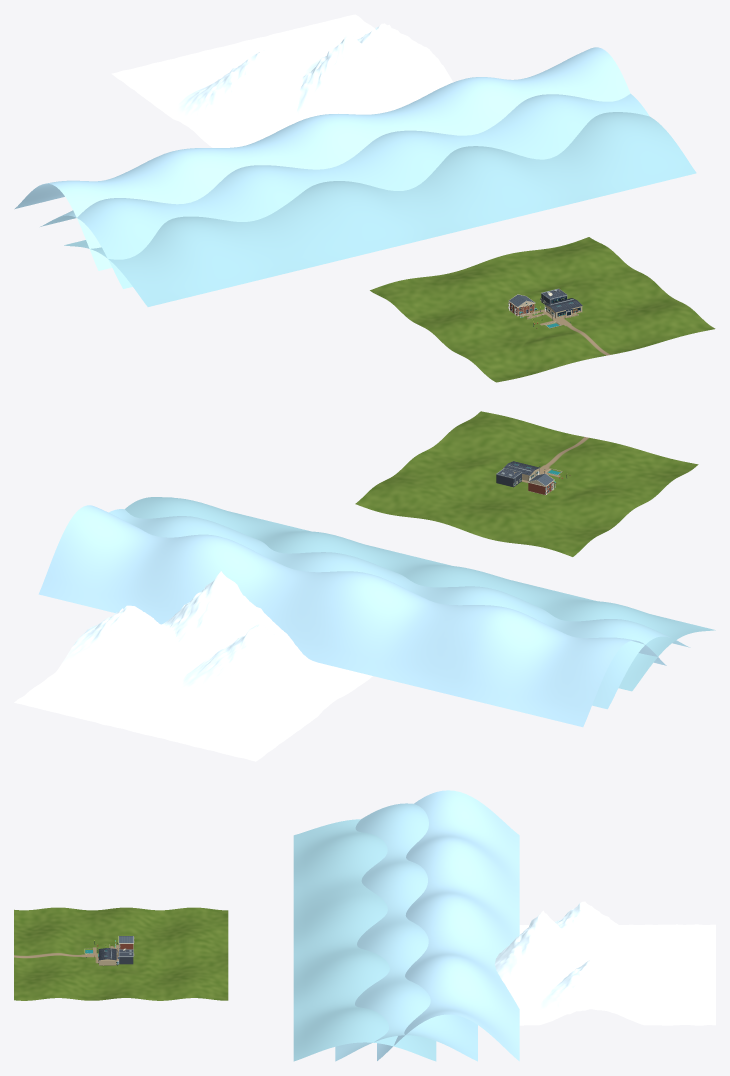
Rendered from village.glb.
The picture shows the model from 3 angles, top to bottom: view 1: azimuth 30°, elevation 25°; view 2: azimuth 150°, elevation 25°; view 3: azimuth 270°, elevation 25°; orthographic projection. The views are drawn at different scales.
Parts seen in each view (by area): view 1: Village architecture and landscape, Logan Terrain.001; view 2: Village architecture and landscape, Logan Terrain.001; view 3: Village architecture and landscape, Logan Terrain.001.
Boxes of the visible parts, bbox=[...] form: Village architecture and landscape: bbox=[14, 14, 696, 328]; Logan Terrain.001: bbox=[370, 237, 715, 382]; Village architecture and landscape: bbox=[14, 461, 715, 761]; Logan Terrain.001: bbox=[355, 411, 698, 556]; Village architecture and landscape: bbox=[84, 790, 715, 1061]; Logan Terrain.001: bbox=[14, 907, 228, 1000].
Bounding box in the file's own units: 450 × 66.31 × 590.
35 materials, 1 textured.
